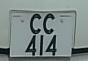1: (37, 34, 46, 57)
4: (22, 34, 40, 57), (44, 34, 61, 56)
C: (26, 12, 44, 37), (41, 11, 59, 36)
